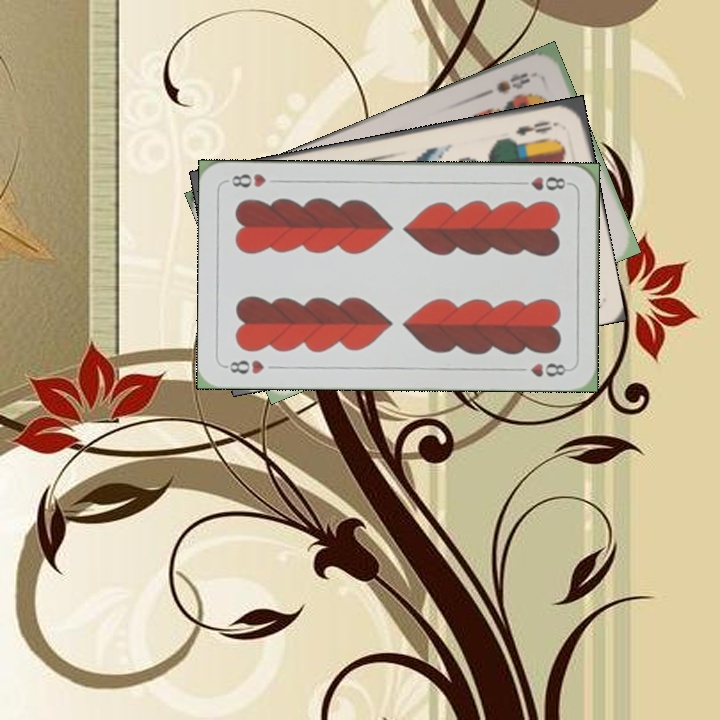EO: (511, 117, 561, 138)
H8: (222, 355, 281, 377), (514, 173, 573, 193)
S8: (492, 68, 533, 96)
